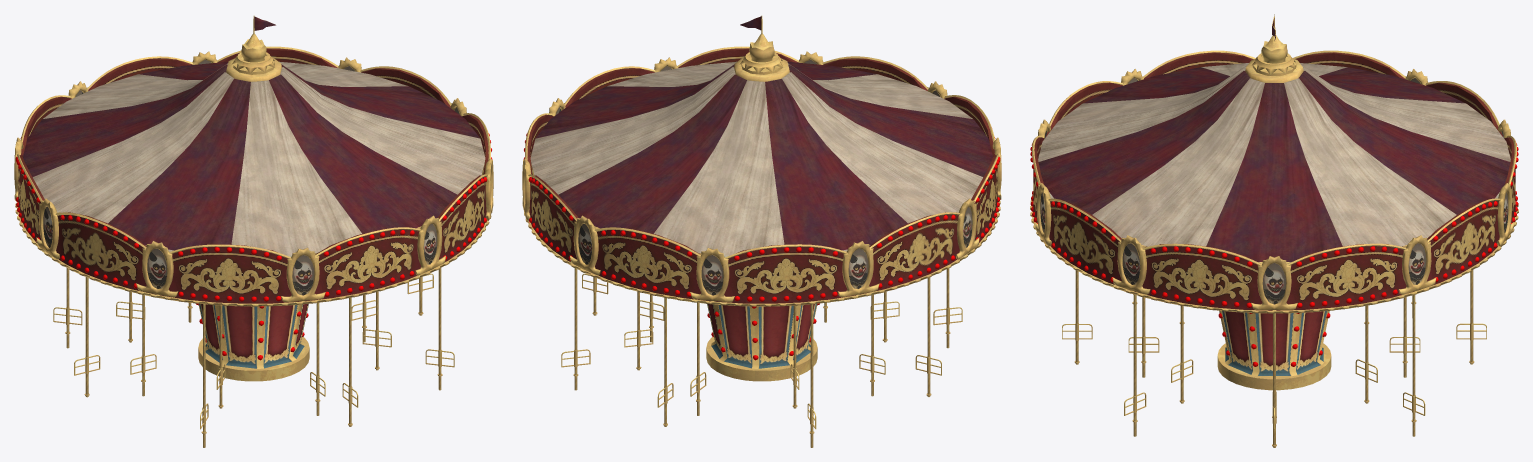
The model's file is tubos.obj.
3 renders of one model, left to right at view 1: azimuth 30°, elevation 25°; view 2: azimuth 150°, elevation 25°; view 3: azimuth 270°, elevation 25°, orthographic. The views are drawn at different scales.
Visible parts, largest first — view 1: obj7, obj3, obj4, obj5; view 2: obj7, obj3, obj4, obj5; view 3: obj7, obj3, obj4, obj5.
Part boxes in pixels (x1,y1,x2,y2): obj7: (23,15,485,255); obj3: (17,46,490,303); obj4: (14,51,493,447); obj5: (15,133,492,360); obj7: (530,15,992,255); obj3: (525,46,998,303); obj4: (522,51,1001,447); obj5: (523,133,1000,360); obj7: (1038,14,1510,261); obj3: (1031,50,1516,310); obj4: (1030,69,1518,447); obj5: (1030,143,1518,366).
Size of the model in its own units: 3.6 by 2.94 by 3.59.
